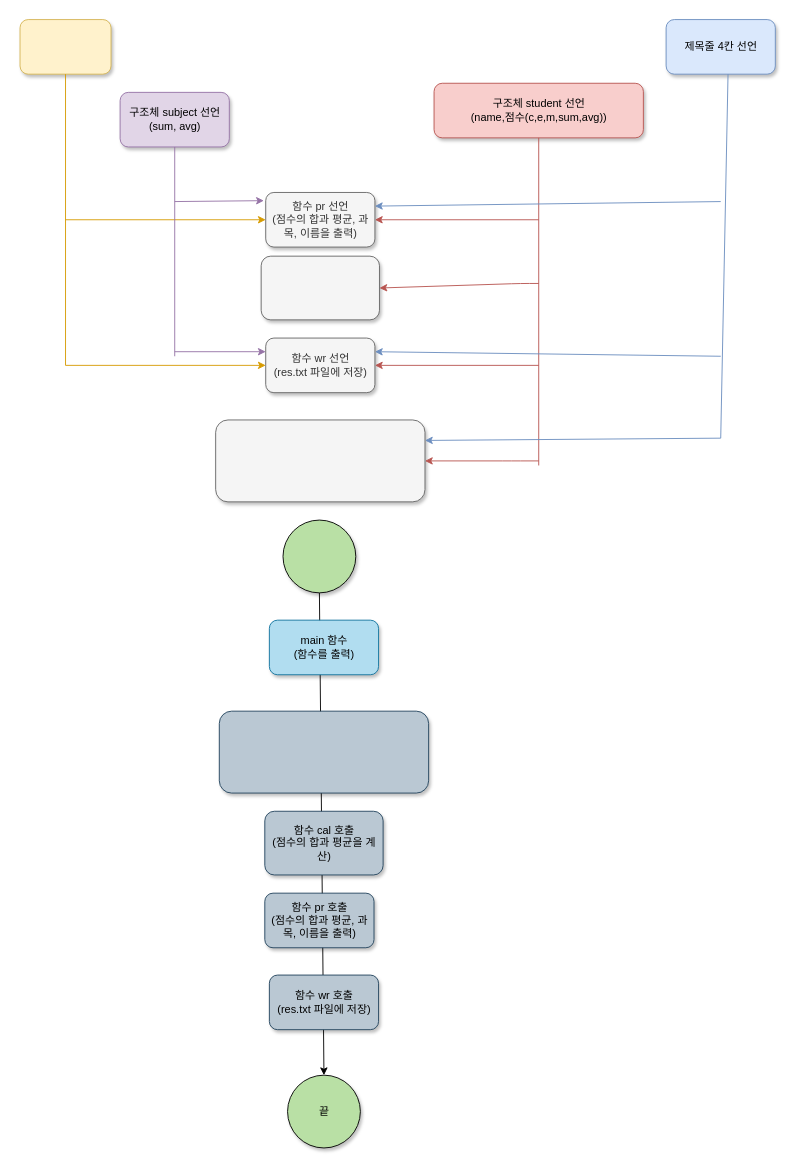
The diagram is 796 pixels wide and 1170 high, and some of its shapes have lost their labels. The shapes that lost their labels are listed below. From the top down, each one's centre as x and y in pixels, then its label:
At [65,48]: "전체평균 선언 (t_avg)".
At [321,289]: "함수 cal 선언 (점수의 합과 평균을 계산)".
At [320,461]: "함수 dread 선언 (dat.txt 파일에서 과목, 점수, 이름을 읽어옴)".
At [319,557]: "시작".
At [324,753]: "함수 dread 호출 (dat.txt 파일에서 과목, 점수, 이름을 읽어옴)".
